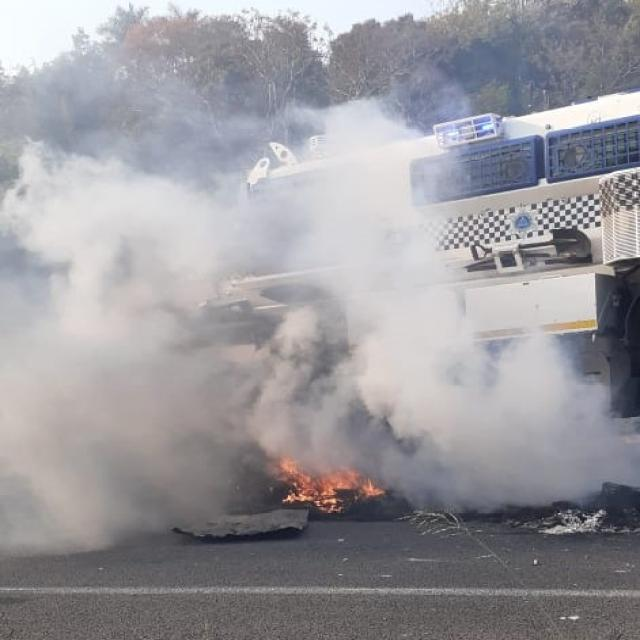smoke: (17, 166, 205, 532), (275, 189, 479, 459), (498, 342, 630, 494)
